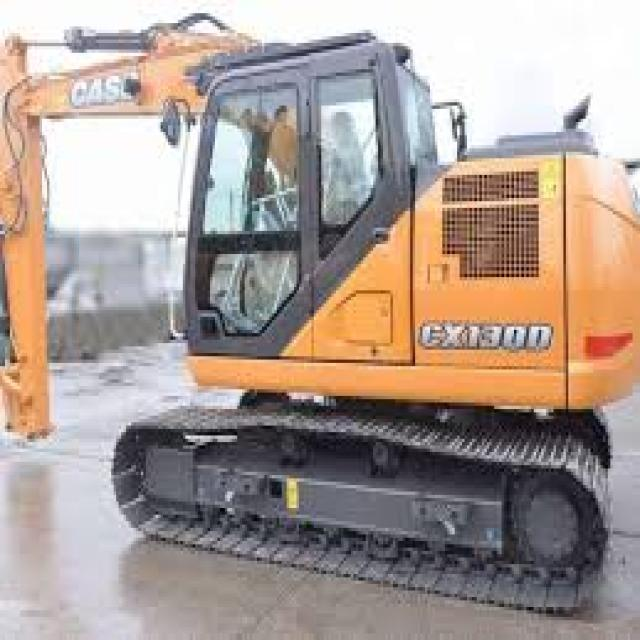excavator: (135, 39, 640, 590)
